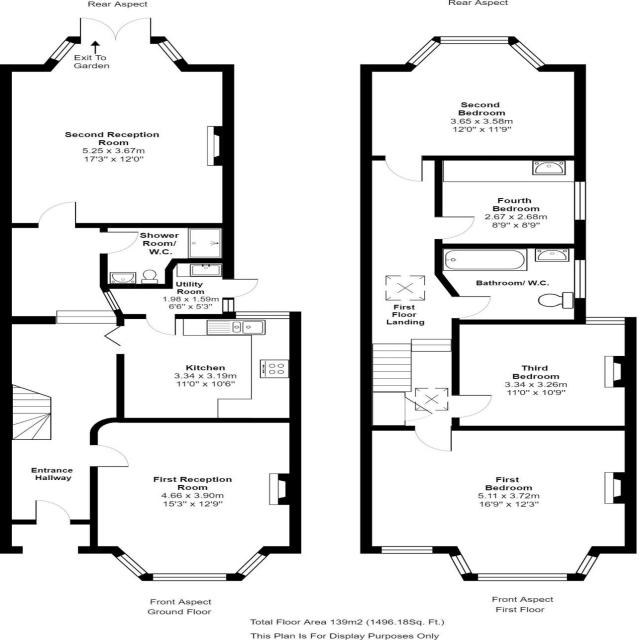DOOR: (36, 200, 78, 229), (382, 155, 424, 183), (88, 442, 131, 469), (434, 215, 476, 241), (34, 498, 74, 525), (414, 425, 453, 452), (98, 231, 140, 256), (451, 394, 493, 419), (450, 295, 492, 319), (220, 278, 260, 300), (144, 312, 177, 338)
DOUBLE DOOR: (74, 14, 155, 43)
ROOM: (0, 16, 235, 229), (359, 425, 637, 582), (89, 417, 302, 582), (360, 35, 587, 183), (101, 311, 302, 423), (450, 316, 637, 431), (434, 155, 586, 249)
WINDOW: (507, 39, 548, 71), (404, 37, 442, 69), (234, 550, 268, 578), (55, 310, 118, 325), (114, 552, 148, 579), (151, 572, 229, 582), (47, 38, 77, 63), (476, 573, 569, 581), (439, 35, 511, 45), (156, 39, 185, 63), (449, 552, 474, 577), (575, 553, 599, 577), (380, 545, 435, 555), (573, 181, 587, 220), (573, 260, 587, 299), (101, 290, 123, 313), (235, 311, 291, 320), (585, 316, 626, 325), (220, 299, 236, 313)
